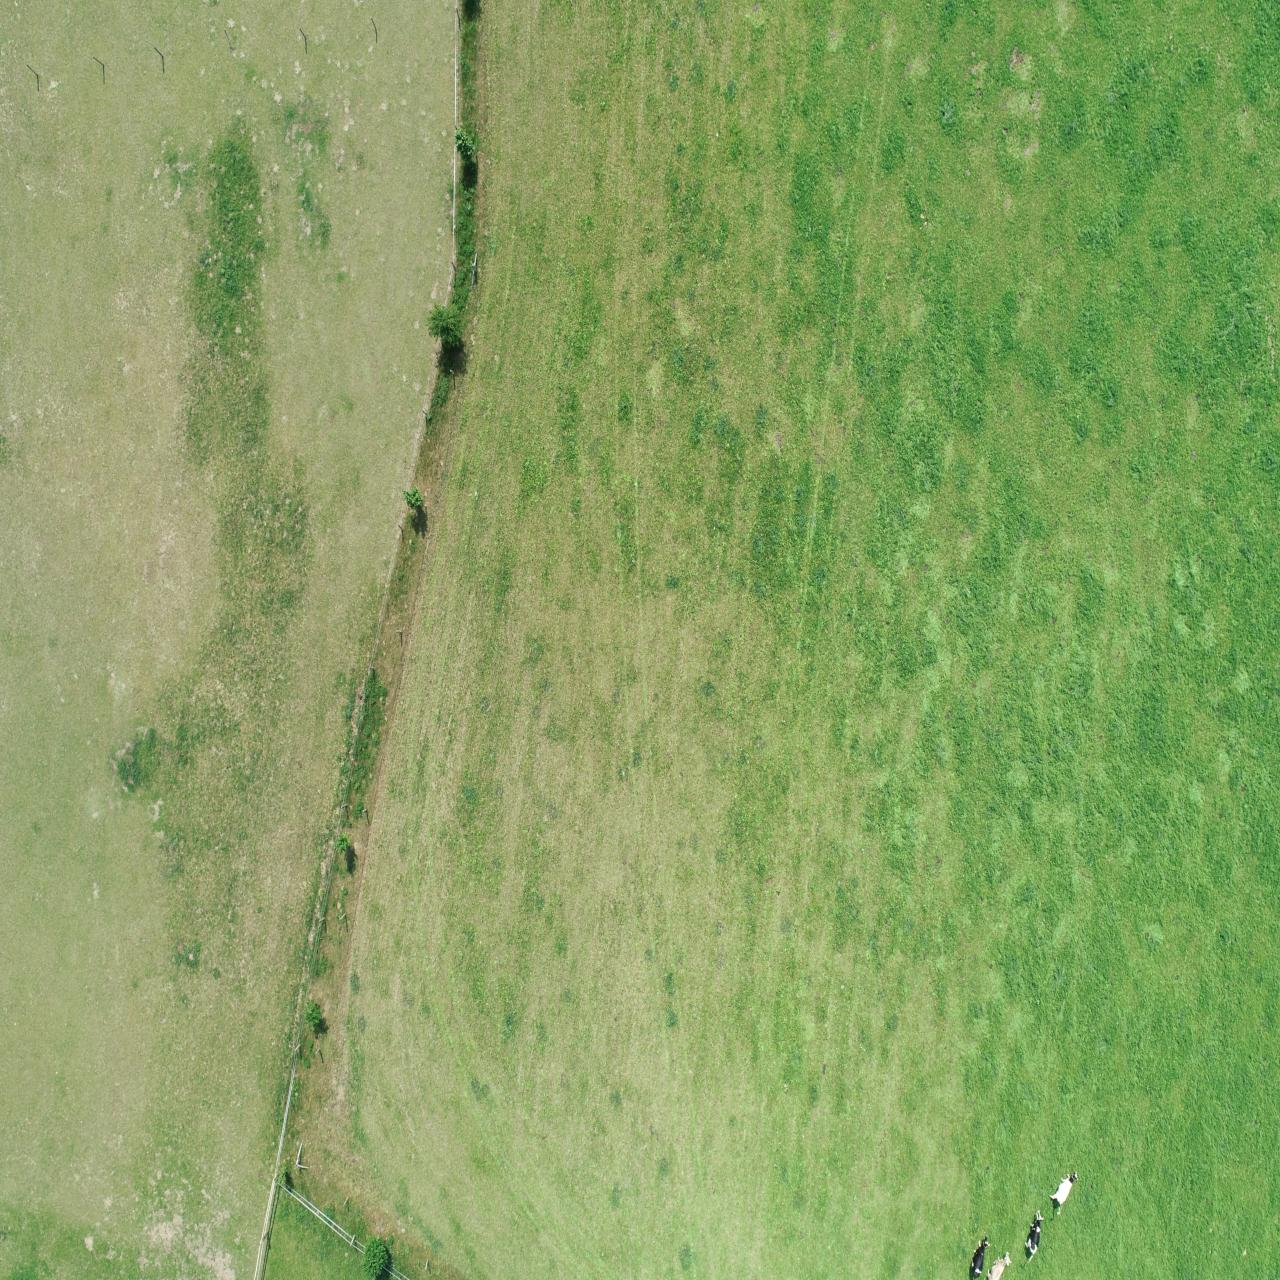cow: (1047, 1165, 1082, 1218), (1021, 1208, 1046, 1264), (966, 1232, 992, 1280), (987, 1251, 1014, 1280)
